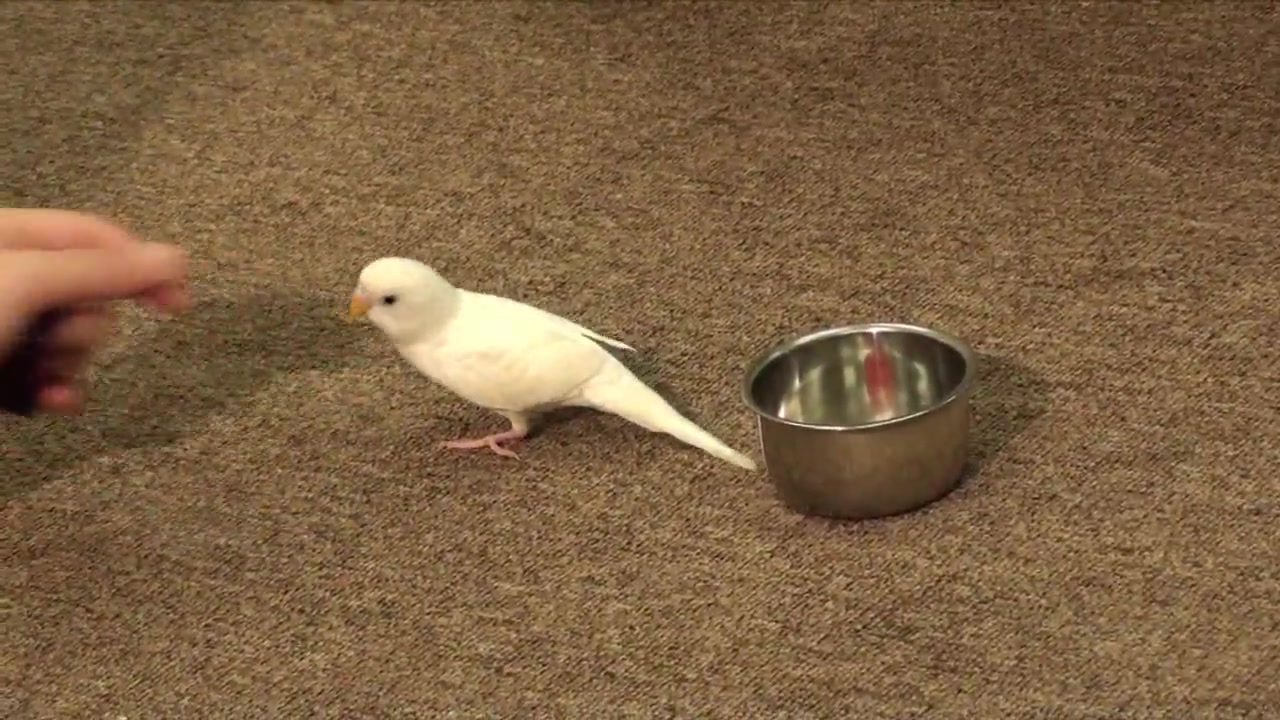bird: (350, 257, 759, 471)
